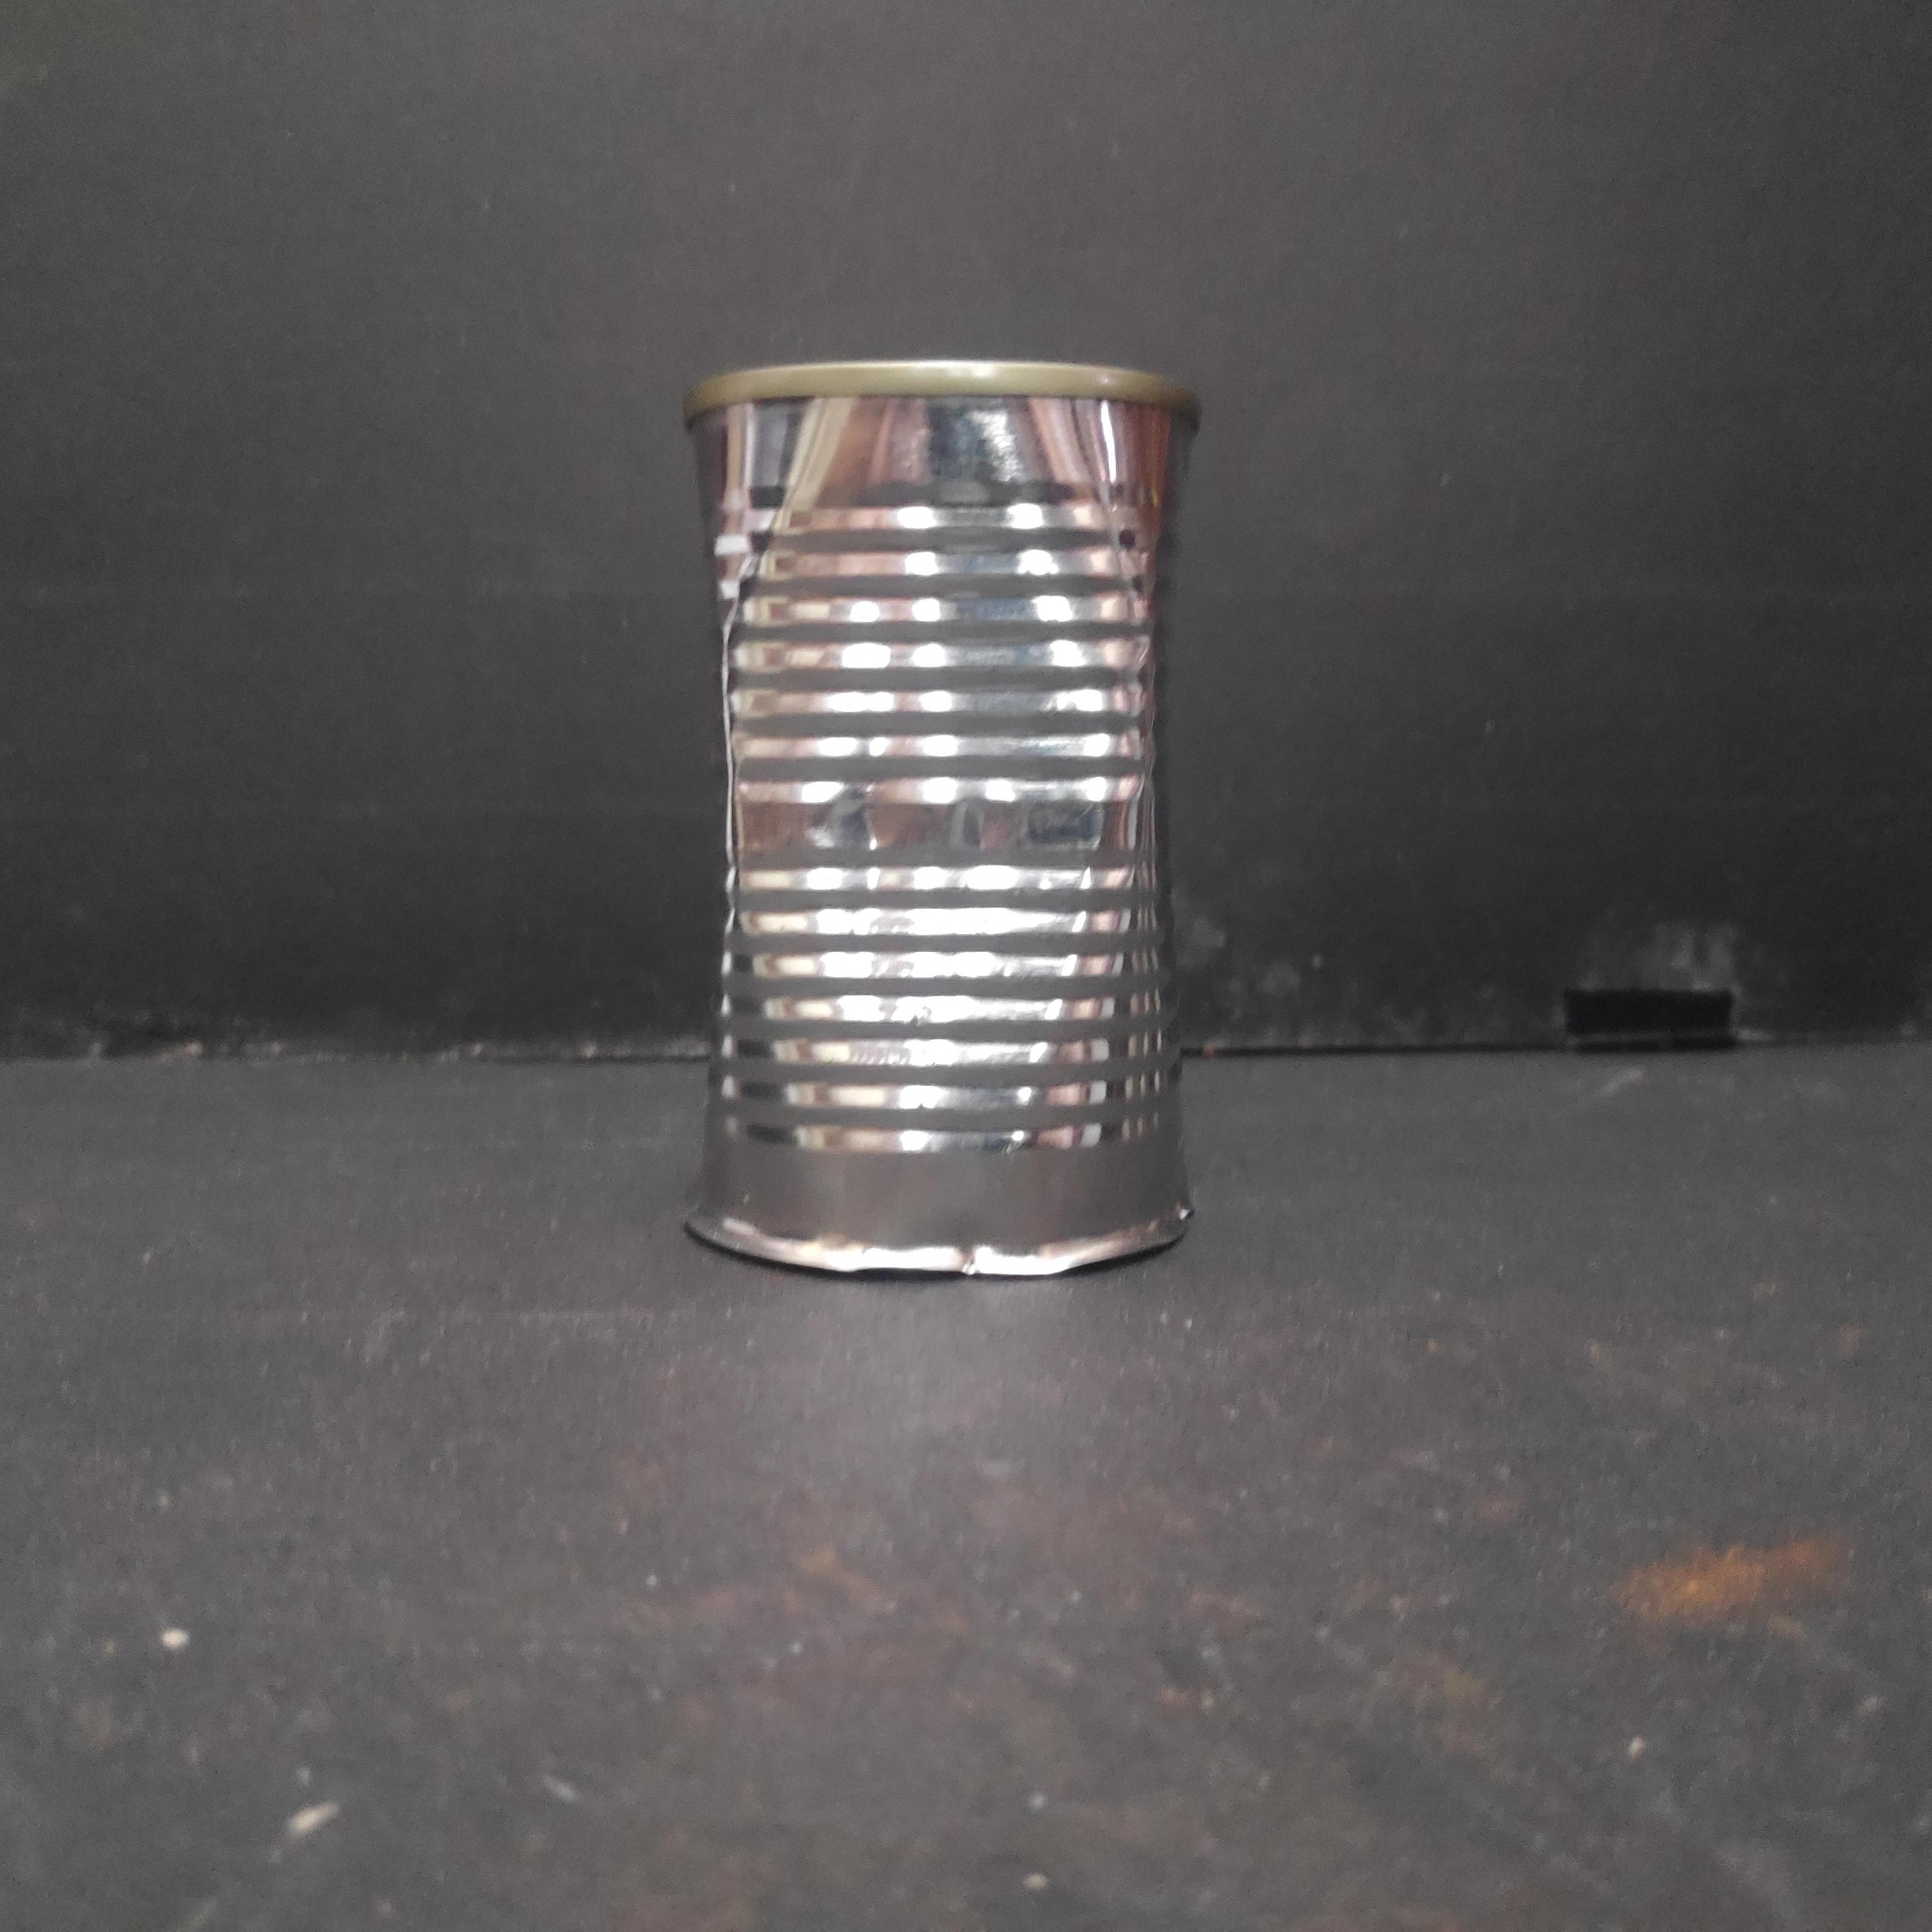Minor Defect: (669, 349, 1228, 1292)
